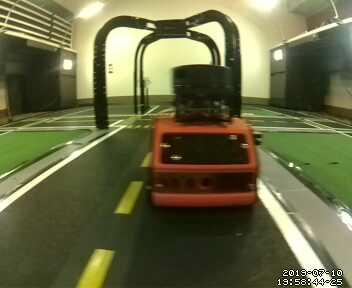pheeno: (142, 64, 264, 212)
